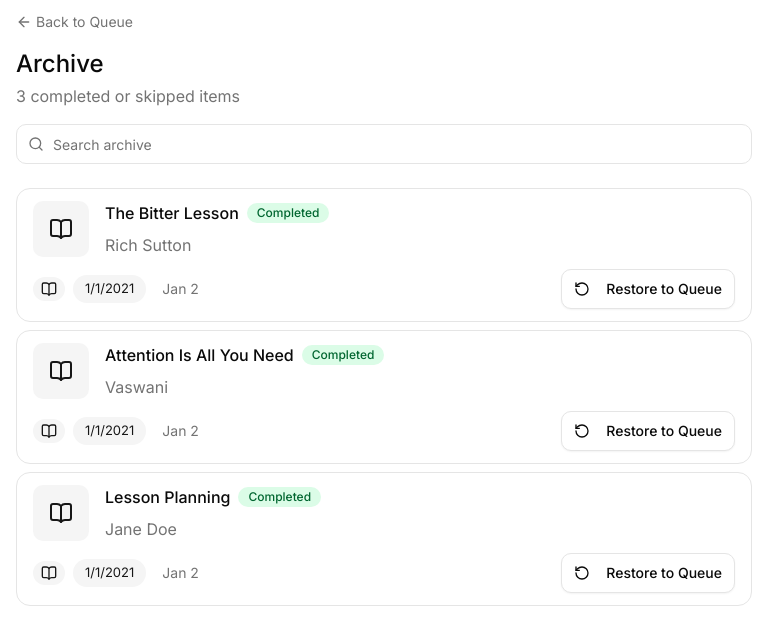
Test: ArchiveList search (#283) › shows a search-specific empty state and clears back to the full list
Type "zzz" into the search field.
click(384, 144); type("zzz")  # box 16,124 -> 752,164
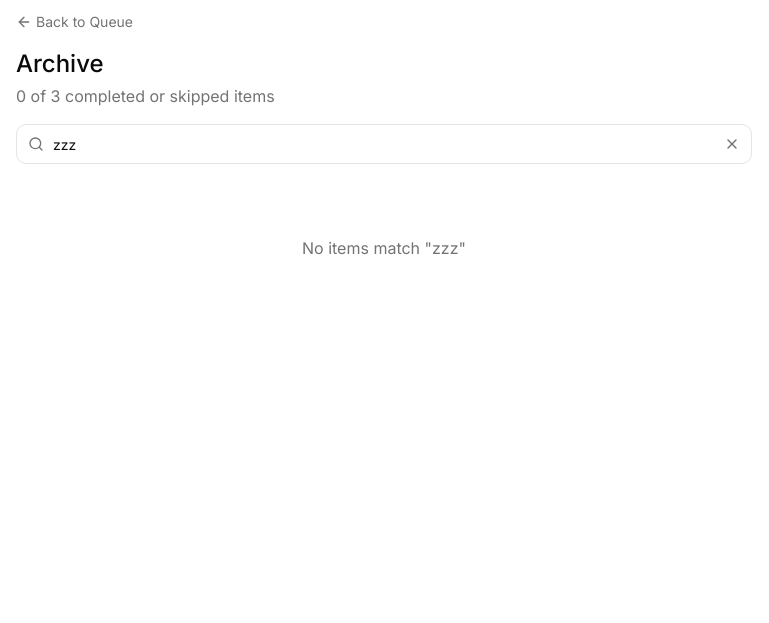
expect the text "No items match \"zzz\"" is shown: met, box 302,238 -> 466,258
Click the button named "Clear search".
click(732, 144)  # box 720,132 -> 744,156
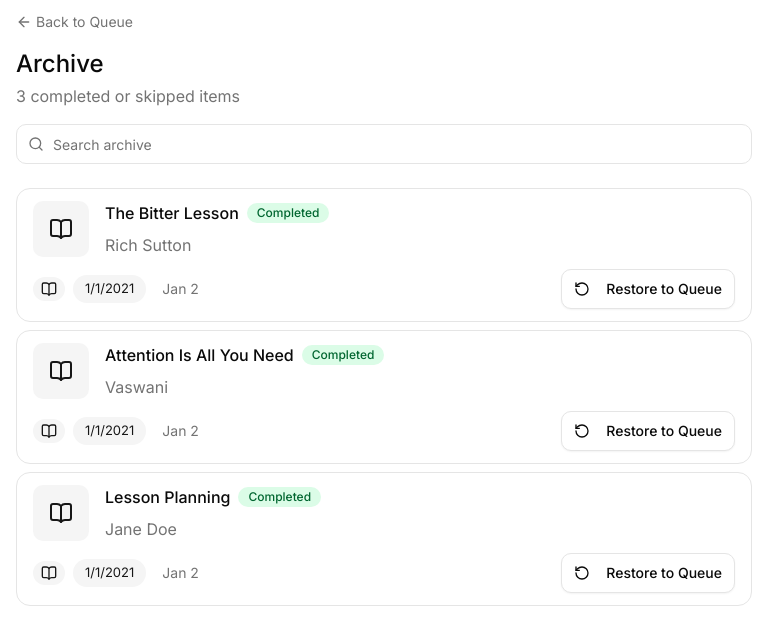
expect the heading "The Bitter Lesson" is shown: met, box 105,201 -> 239,225
